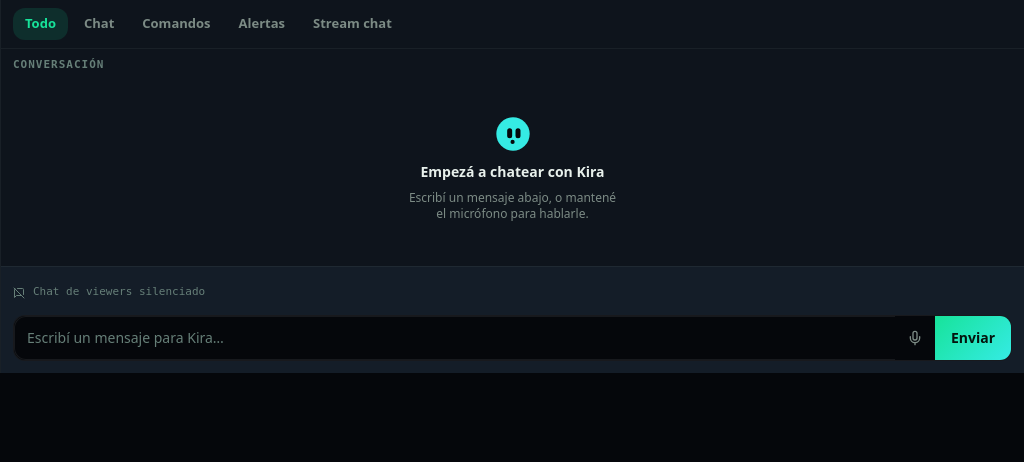
Test: ConversationPanel — composer mic (pure PTT relocation, §3b(vi)) › announces the stt_unreachable failure assertively (role=alert), not as a quiet status line
Press the mouse on the button named "Mantené para hablar con Kira" at (915, 338), box [895, 316, 935, 360]
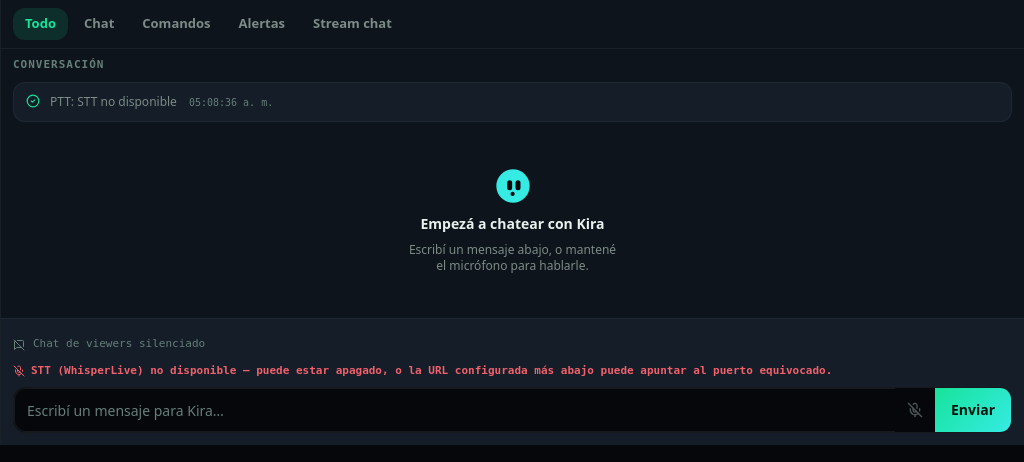
Result: the 2nd message shows "STT (WhisperLive) no disponible" at [31, 364, 832, 376]
